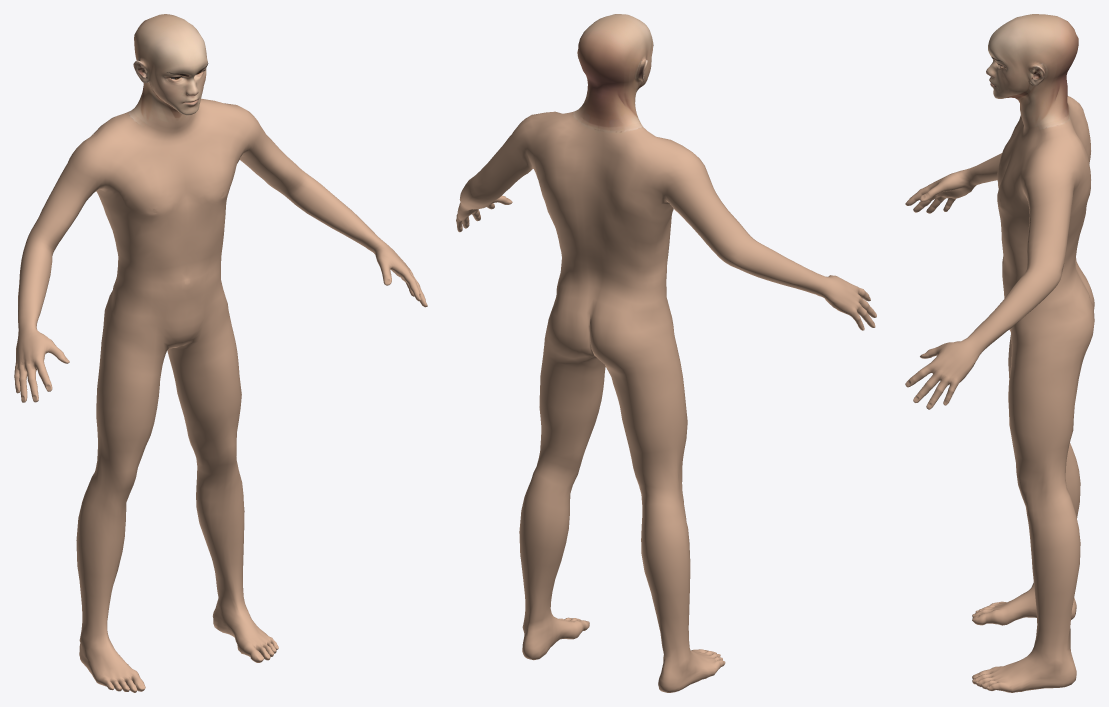
The model's file is head_base_v5_tex.glb.
The picture shows the model from 3 angles, left to right: view 1: azimuth 30°, elevation 25°; view 2: azimuth 150°, elevation 25°; view 3: azimuth 270°, elevation 25°; orthographic projection.
Parts seen in each view (by area): view 1: body; view 2: body; view 3: body.
Boxes of the visible parts, x1,y1,x2,y2 form: body: [14, 14, 427, 692]; body: [456, 14, 876, 692]; body: [905, 14, 1094, 692].
Bounding box in the file's own units: 1.11 × 1.67 × 0.4497.
Materials: 4 (4 with a texture image).
